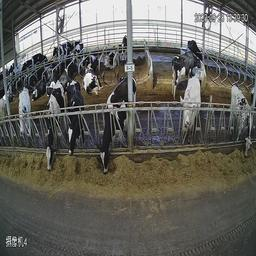cow: (99, 75, 141, 169), (176, 79, 210, 154), (64, 80, 89, 162), (227, 83, 251, 167), (44, 80, 63, 172), (15, 89, 40, 147), (166, 44, 203, 81), (30, 66, 52, 104), (85, 52, 103, 96), (118, 32, 136, 67), (102, 40, 121, 72)
